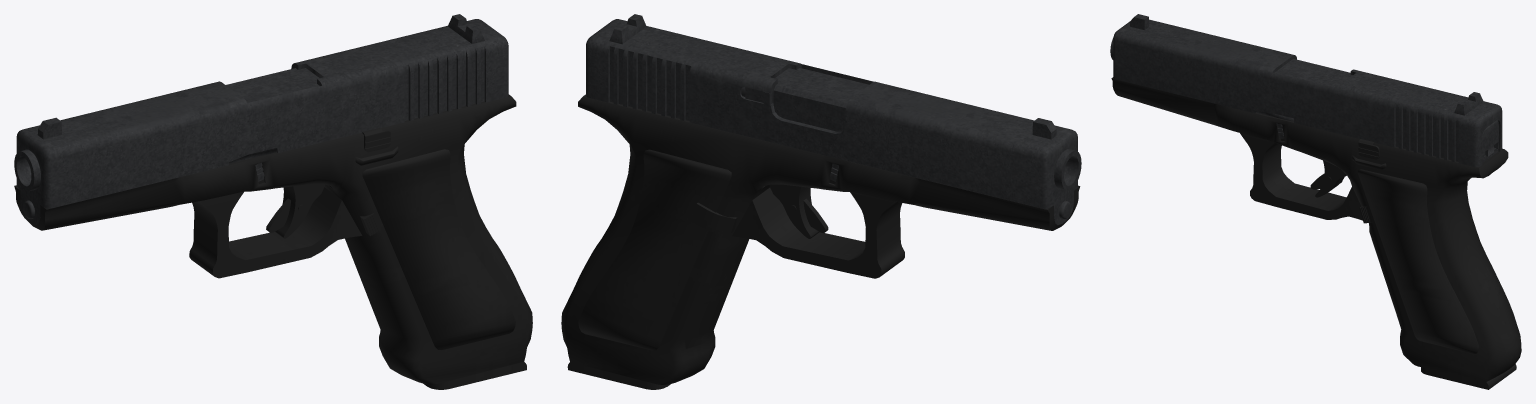
The model's file is glock17.glb.
The picture shows the model from 3 angles, left to right: view 1: azimuth 30°, elevation 25°; view 2: azimuth 150°, elevation 25°; view 3: azimuth 330°, elevation 25°; orthographic projection. The views are drawn at different scales.
Visible parts, largest first — view 1: glock17; view 2: glock17; view 3: glock17.
Part boxes in pixels (bbox=[...]): glock17: bbox=[14, 14, 532, 389]; glock17: bbox=[561, 14, 1081, 389]; glock17: bbox=[1110, 14, 1521, 389].
Size of the model in its own units: 0.19 by 0.125 by 0.0264.
2 materials, 2 textured.
